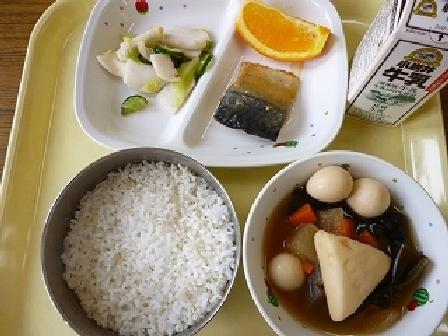Citrus: (228, 2, 343, 60)
Fish: (210, 58, 308, 147)
Milk: (342, 1, 444, 133)
Rice: (44, 146, 242, 333)
Salad: (97, 20, 212, 105)
vegetable soup: (245, 156, 436, 333)
